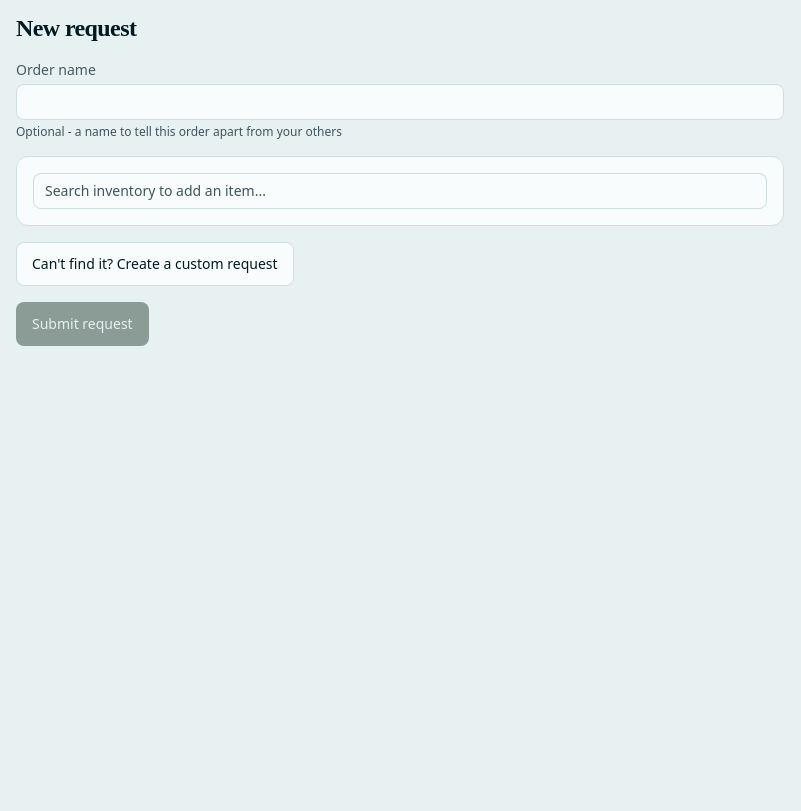
Test: OrdersNewPage › offers a custom request when the search finds nothing
Type "Nonexistent thing" into the field labelled "Search inventory" at (400, 191), box [33,173,767,209]
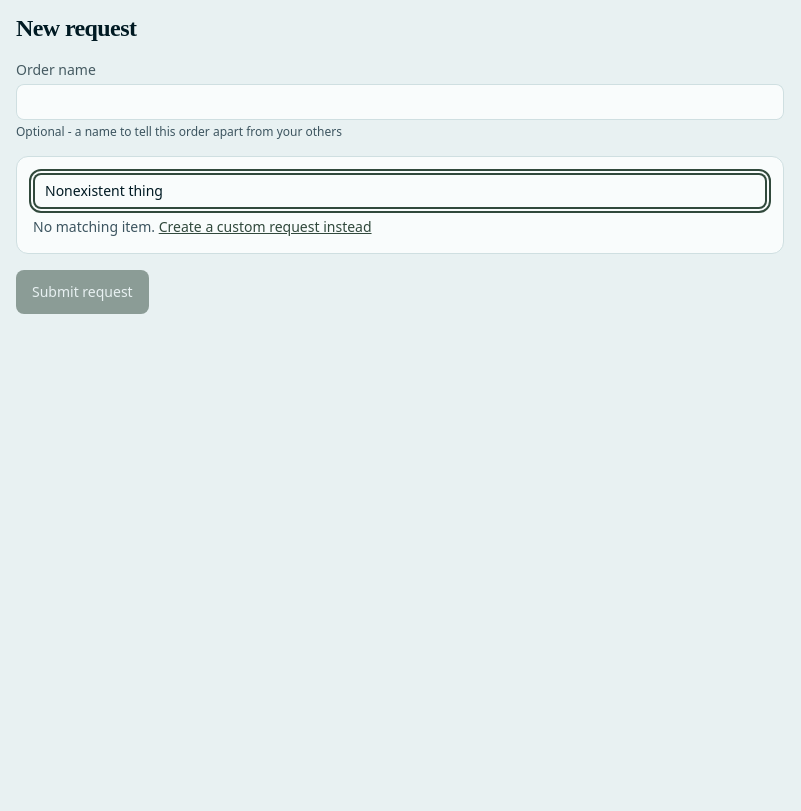
Click the button "Create a custom request instead" at (265, 227), box [159,217,372,237]
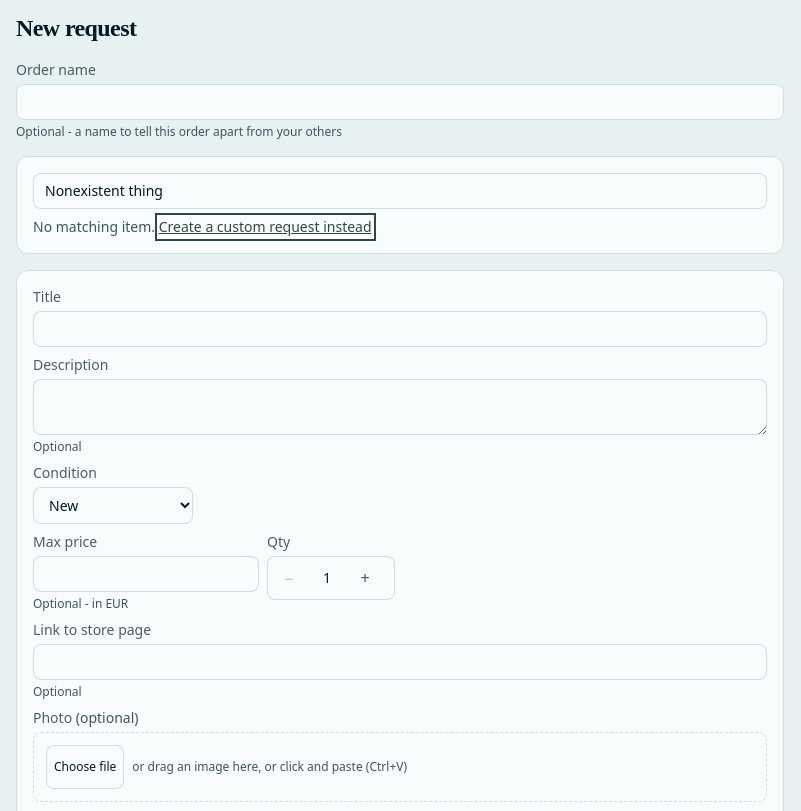
Check: the field labelled "Title" is shown, box [33,311,767,347]
